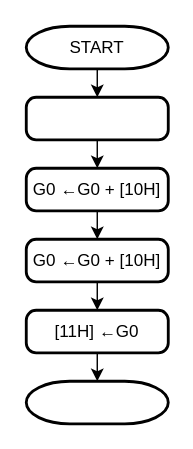
The diagram is 193 pixels wide and 449 high, and some of its shapes have lost their labels. The centre of each missing label's shape, as x and y in pixels:
END: the point at 96,402
G0 ← [10H]: the point at 96,118
